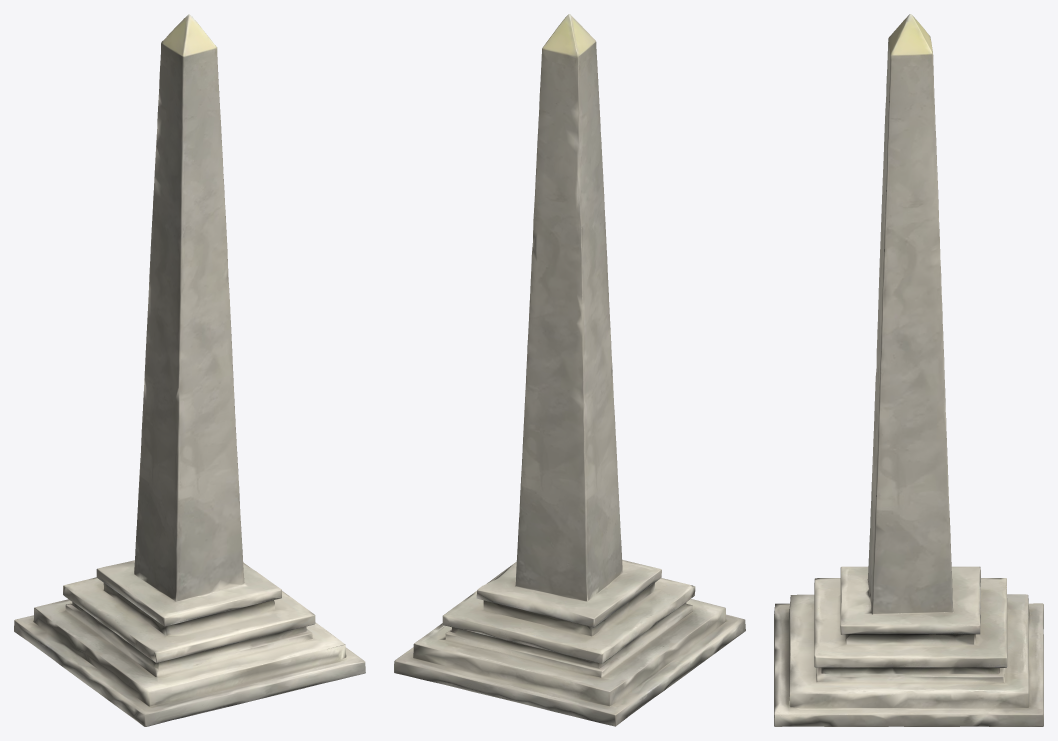
Rendered from mal_obelisk.glb.
The picture shows the model from 3 angles, left to right: view 1: azimuth 30°, elevation 25°; view 2: azimuth 150°, elevation 25°; view 3: azimuth 270°, elevation 25°; orthographic projection. The views are drawn at different scales.
Visible parts, largest first — view 1: tripo_node_7feb8b0a-5ca4-4ae8-99e4-2536a02868ea; view 2: tripo_node_7feb8b0a-5ca4-4ae8-99e4-2536a02868ea; view 3: tripo_node_7feb8b0a-5ca4-4ae8-99e4-2536a02868ea.
Part boxes in pixels (x1=…): tripo_node_7feb8b0a-5ca4-4ae8-99e4-2536a02868ea: x1=14, y1=14, x2=365, y2=726; tripo_node_7feb8b0a-5ca4-4ae8-99e4-2536a02868ea: x1=394, y1=14, x2=745, y2=726; tripo_node_7feb8b0a-5ca4-4ae8-99e4-2536a02868ea: x1=774, y1=14, x2=1043, y2=726.
Size of the model in its own units: 0.3634 by 1 by 0.3719.
1 material, 1 textured.
